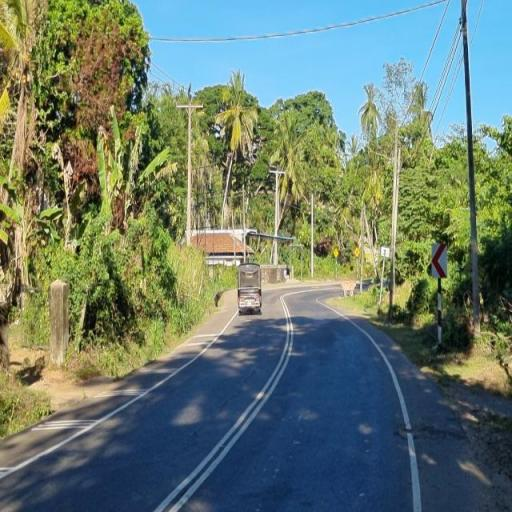double_white_line: (150, 294, 298, 510)
